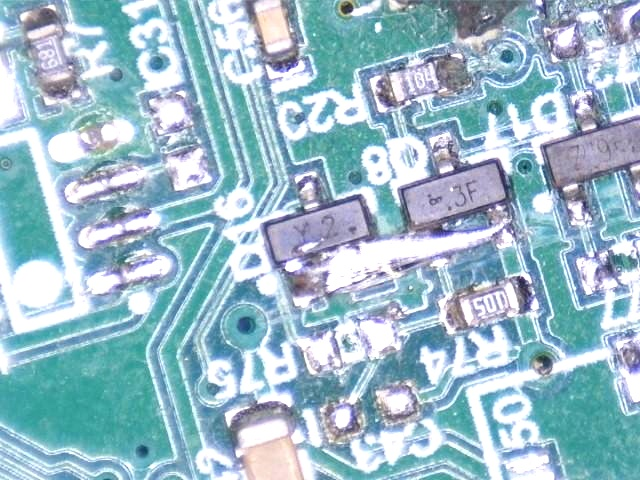pcb_defect: (282, 217, 512, 299)
